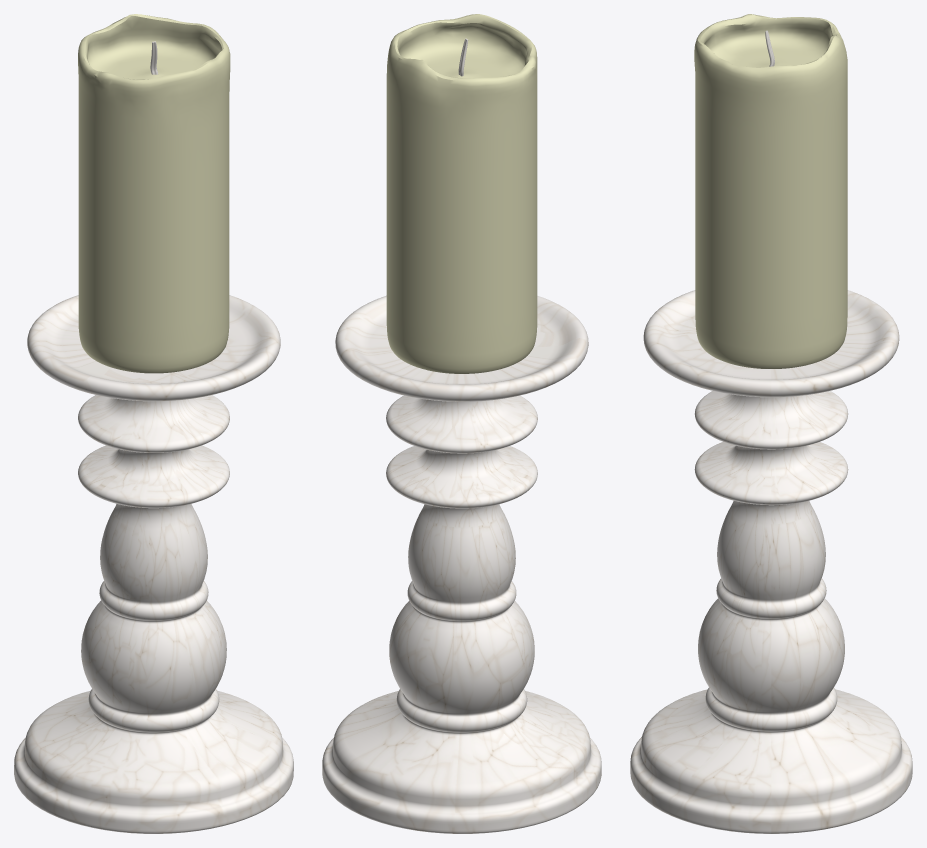
The model's file is candle.fbx.
The picture shows the model from 3 angles, left to right: view 1: azimuth 30°, elevation 25°; view 2: azimuth 150°, elevation 25°; view 3: azimuth 270°, elevation 25°; orthographic projection.
Visible parts, largest first — view 1: Candle_Holder, Cylinder; view 2: Candle_Holder, Cylinder; view 3: Candle_Holder, Cylinder.
Part boxes in pixels (left/top/right/bottom): Candle_Holder: left=14, top=295, right=293, bottom=833; Cylinder: left=78, top=14, right=230, bottom=373; Candle_Holder: left=322, top=295, right=601, bottom=833; Cylinder: left=386, top=14, right=537, bottom=373; Candle_Holder: left=630, top=290, right=912, bottom=833; Cylinder: left=694, top=14, right=847, bottom=368.
Bounding box in the file's own units: 9.2 × 26.72 × 9.2.
Materials: 3 (1 with a texture image).
